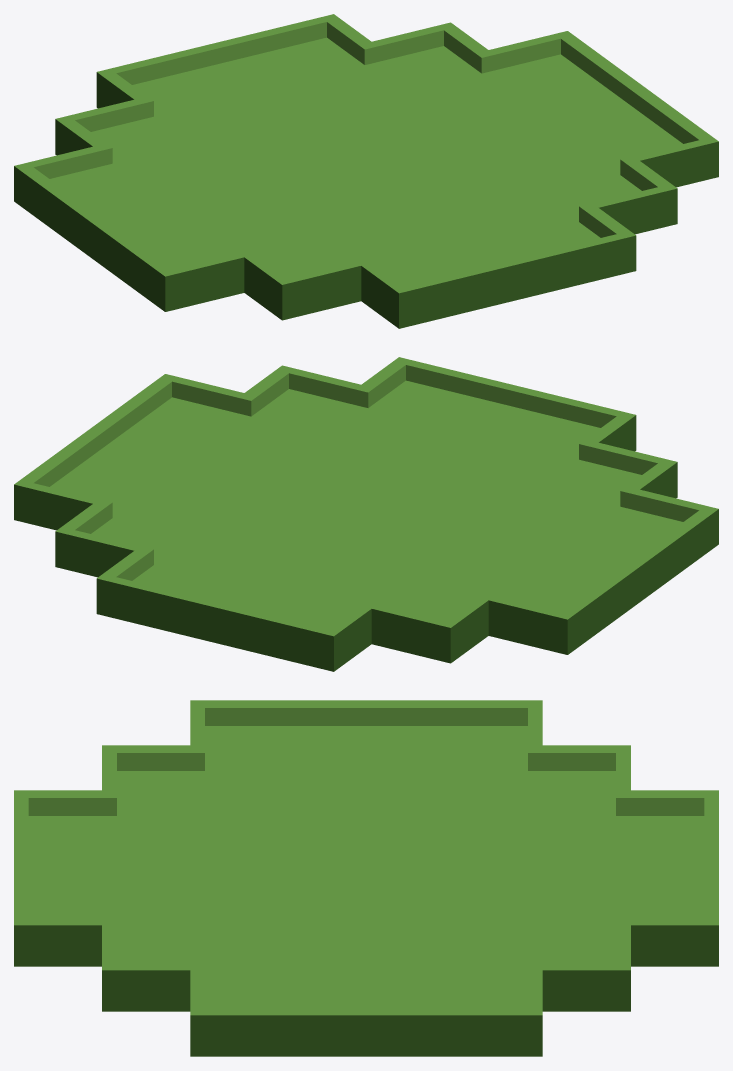
Rendered from LilypadGreen.fbx.
3 renders of one model, top to bottom at view 1: azimuth 30°, elevation 25°; view 2: azimuth 150°, elevation 25°; view 3: azimuth 270°, elevation 25°, orthographic. The views are drawn at different scales.
Parts seen in each view (by area): view 1: LilyPadFullG; view 2: LilyPadFullG; view 3: LilyPadFullG.
Part boxes in pixels (box(x1,y1,x2,y2)): LilyPadFullG: box(14, 14, 718, 328); LilyPadFullG: box(14, 357, 718, 671); LilyPadFullG: box(14, 700, 718, 1056).
Bounding box in the file's own units: 280 × 17.17 × 265.
